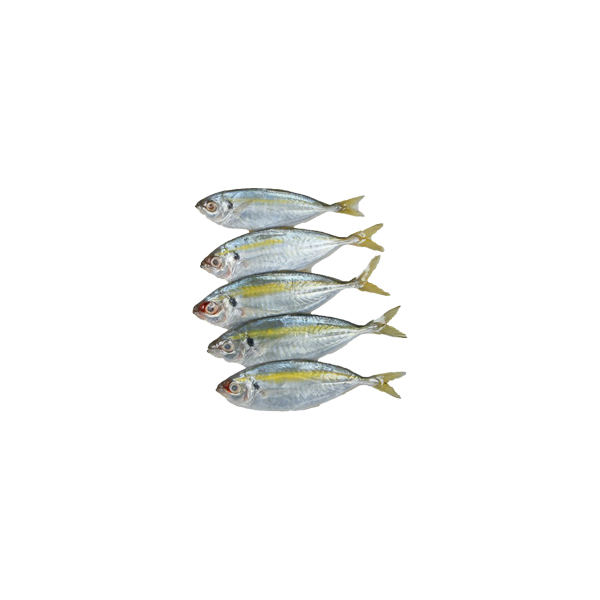Ikan Selar: (187, 268, 421, 326), (194, 363, 417, 423), (198, 319, 423, 371), (183, 182, 381, 236), (197, 227, 408, 275)
